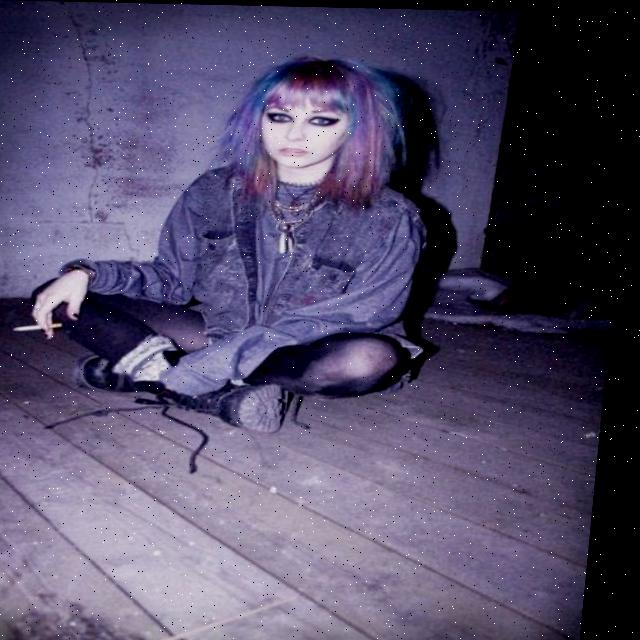cigarette: (20, 322, 71, 332)
